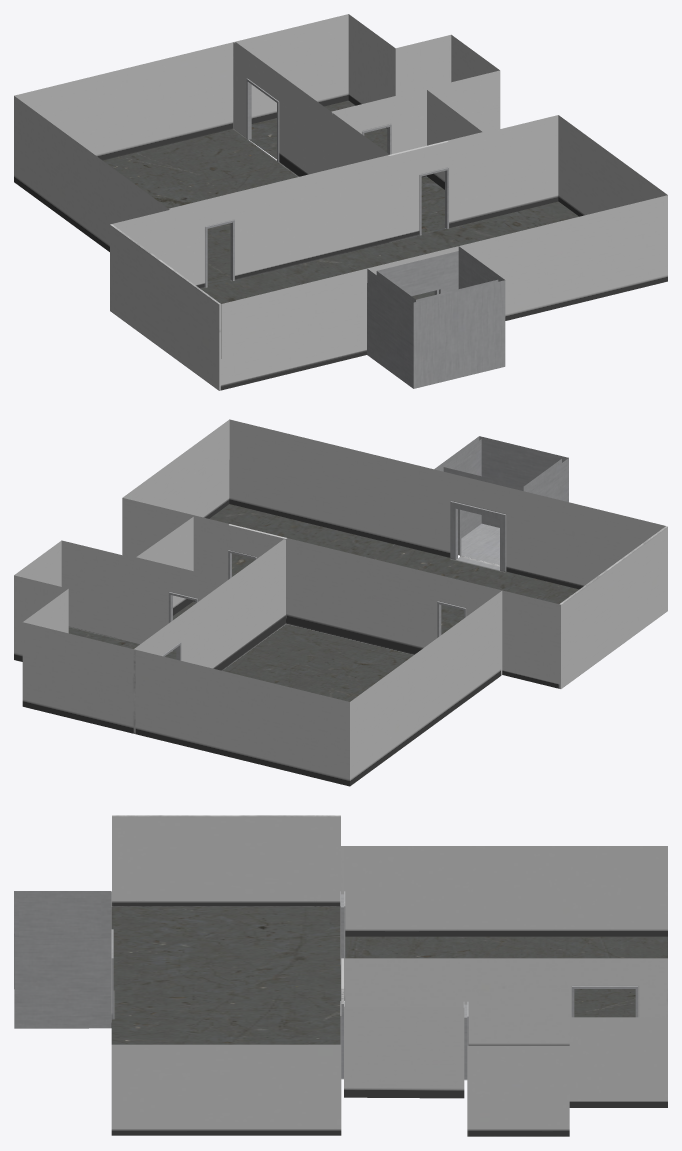
The model's file is LabRoom.fbx.
The picture shows the model from 3 angles, top to bottom: view 1: azimuth 30°, elevation 25°; view 2: azimuth 150°, elevation 25°; view 3: azimuth 270°, elevation 25°; orthographic projection. The views are drawn at different scales.
Parts seen in each view (by area): view 1: Rooms; view 2: Rooms; view 3: Rooms.
Part boxes in pixels (left/top/right/bottom): Rooms: left=14, top=14, right=667, bottom=390; Rooms: left=14, top=419, right=667, bottom=786; Rooms: left=14, top=815, right=667, bottom=1136.
Bounding box in the file's own units: 1643 × 302 × 1969.
